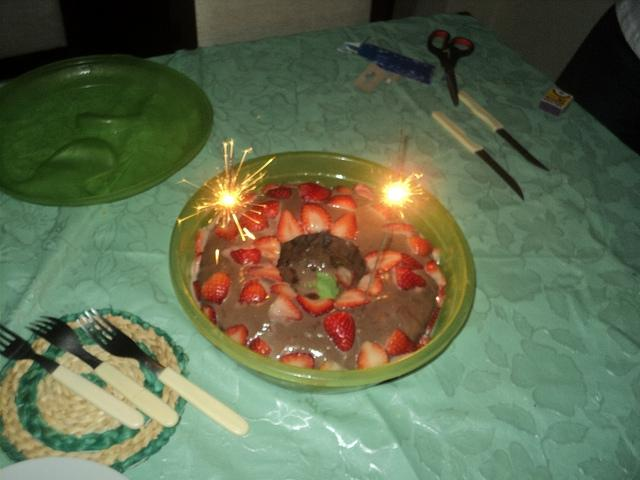strawberry: (323, 312, 355, 352), (200, 270, 230, 305), (300, 202, 332, 234), (268, 293, 302, 321), (277, 210, 305, 243), (364, 250, 402, 274), (252, 236, 282, 266), (356, 342, 388, 370), (384, 328, 416, 356), (238, 278, 268, 305), (419, 307, 440, 345), (298, 294, 334, 316), (330, 213, 358, 241), (395, 266, 427, 290), (334, 289, 372, 308), (248, 264, 284, 283), (298, 182, 332, 202), (239, 210, 270, 231), (426, 260, 446, 290), (382, 222, 419, 238), (356, 274, 384, 295), (335, 262, 356, 290), (280, 352, 314, 369), (251, 200, 279, 220), (216, 219, 240, 242), (395, 253, 424, 271), (230, 248, 260, 265), (224, 325, 248, 346), (370, 203, 398, 220), (408, 236, 432, 255), (248, 337, 272, 356), (195, 227, 211, 254), (327, 195, 357, 209), (270, 282, 296, 298), (200, 306, 217, 326), (318, 359, 343, 371), (265, 188, 291, 198), (262, 183, 278, 195), (194, 252, 203, 272), (436, 289, 446, 306), (194, 281, 202, 302), (337, 186, 352, 193)
